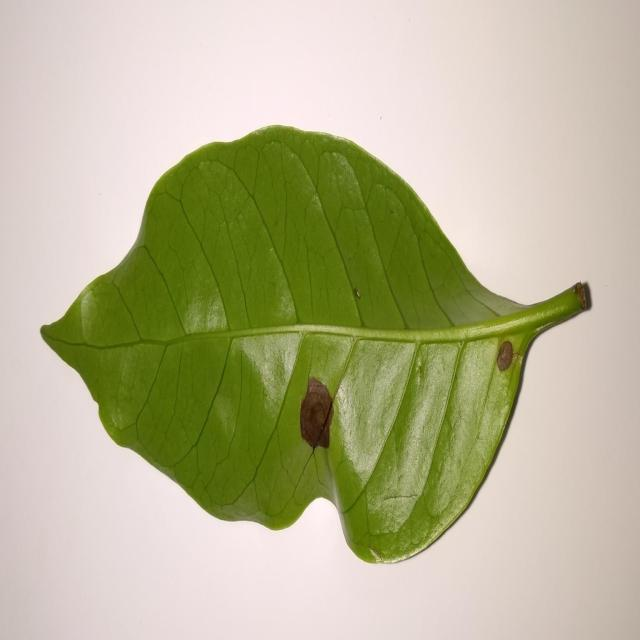phoma: (300, 378, 334, 451), (497, 341, 513, 371)
